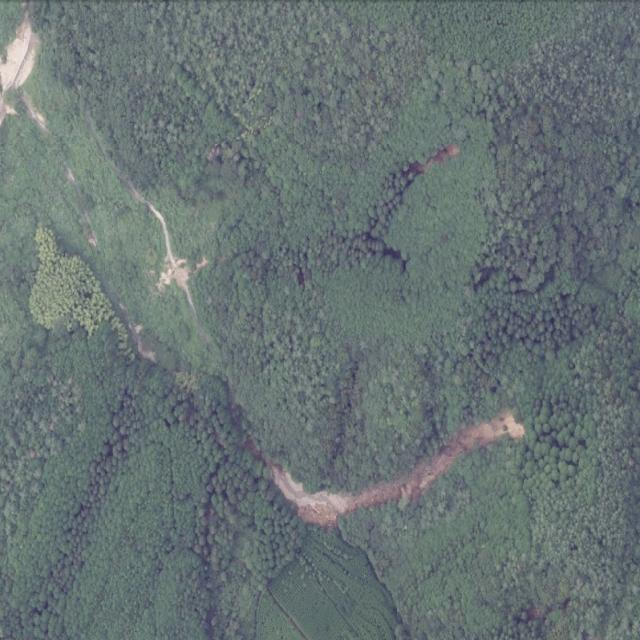landslide: (260, 410, 525, 529)
